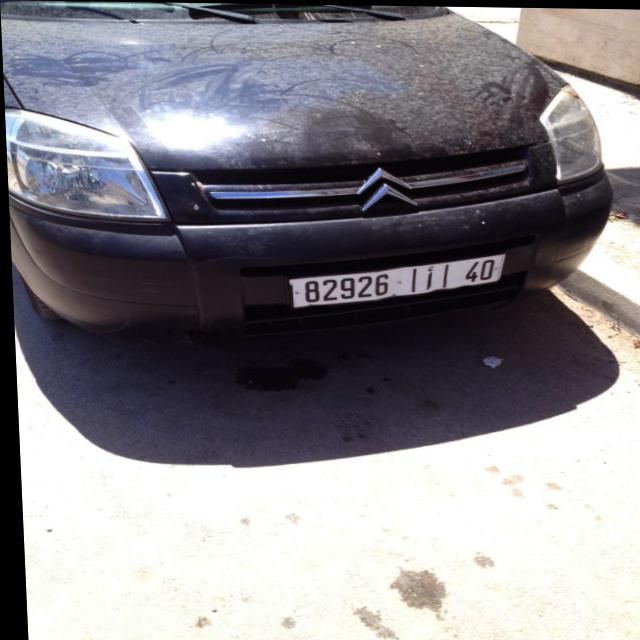License-Plate: (286, 252, 504, 306)
